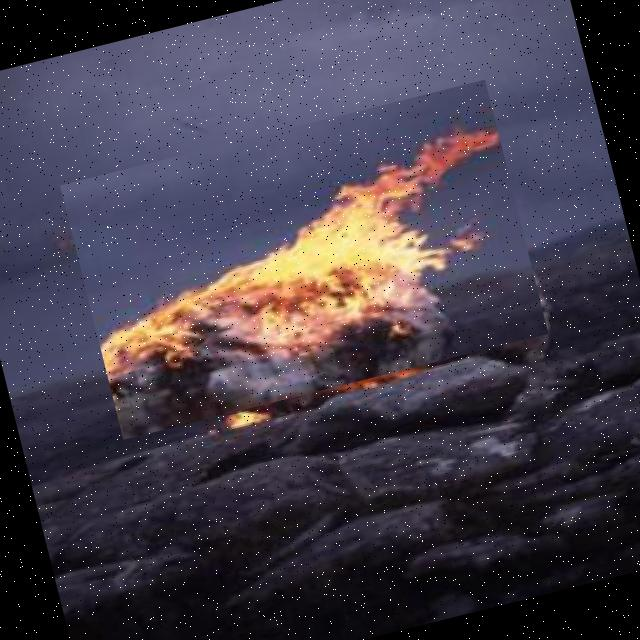fire: (60, 79, 548, 439)
